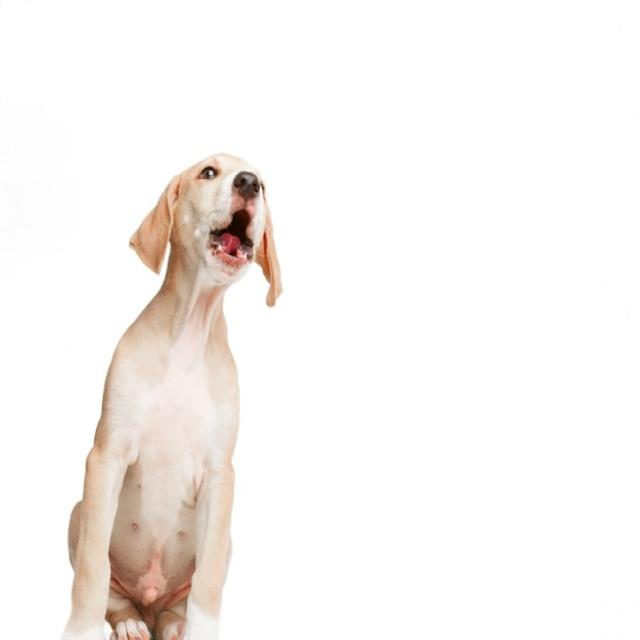Dog: (62, 152, 284, 640)
